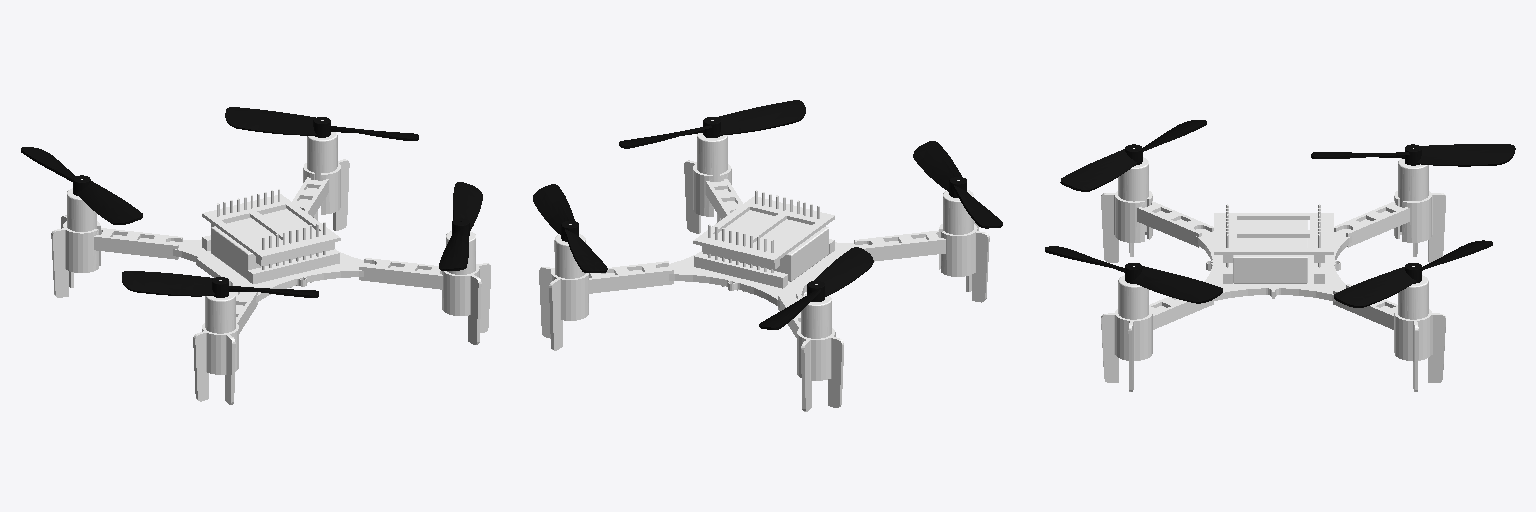
The robot description file, URDF, robot "crazyflie":
<?xml version="1.0" encoding="utf-8"?>
<!-- ROS2-compatible Crazyflie URDF based on original SolidWorks export -->
<robot name="crazyflie">
  
  <!-- Base Link -->
  <link name="base_link">
    <inertial>
      <origin xyz="-2.63791012241991E-05 -0.000268052705446983 0.00191074112200795" rpy="0 0 0" />
      <mass value="0.0191917431990065" />
      <inertia
        ixx="8.93713430198133E-07"
        ixy="-3.57863594302582E-22"
        ixz="-1.26615970453137E-10"
        iyy="1.00507341216179E-06"
        iyz="1.66710668680818E-22"
        izz="1.46956848000142E-06" />
    </inertial>
    <visual>
      <origin xyz="0 0 0" rpy="0 0 0" />
      <geometry>
        <mesh filename="package://kaskazi_drone/crazyflie/meshes/base_link.STL" />
      </geometry>
      <material name="white">
        <color rgba="1 1 1 1" />
      </material>
    </visual>
    <collision>
      <origin xyz="0 0 0" rpy="0 0 0" />
      <geometry>
        <mesh filename="package://kaskazi_drone/crazyflie/meshes/base_link.STL" />
      </geometry>
    </collision>
  </link>

  <!-- Rotor 1 Link -->
  <link name="rotor_1_link">
    <inertial>
      <origin xyz="-2.6852E-10 2.5151E-10 -0.0016763" rpy="0 0 0" />
      <mass value="0.00025712" />
      <inertia
        ixx="2.6852E-08"
        ixy="-1.8324E-08"
        ixz="4.193E-18"
        iyy="1.3639E-08"
        iyz="1.231E-18"
        izz="4.0185E-08" />
    </inertial>
    <visual>
      <origin xyz="0 0 0" rpy="0 0 0" />
      <geometry>
        <mesh filename="package://kaskazi_drone/crazyflie/meshes/rotor_1_link.STL" />
      </geometry>
      <material name="dark_grey">
        <color rgba="0.10196 0.10196 0.10196 1" />
      </material>
    </visual>
    <collision>
      <origin xyz="0 0 0" rpy="0 0 0" />
      <geometry>
        <mesh filename="package://kaskazi_drone/crazyflie/meshes/rotor_1_link.STL" />
      </geometry>
    </collision>
  </link>

  <joint name="rotor_1_joint" type="continuous">
    <origin xyz="0.031643 -0.031643 0.01385" rpy="0 0 0" />
    <parent link="base_link" />
    <child link="rotor_1_link" />
    <axis xyz="0 0 1" />
  </joint>

  <!-- Rotor 2 Link -->
  <link name="rotor_2_link">
    <inertial>
      <origin xyz="-8.1567E-10 -1.248E-09 -0.0016763" rpy="0 0 0" />
      <mass value="0.00025708" />
      <inertia
        ixx="1.6525E-08"
        ixy="1.911E-08"
        ixz="-8.4355E-18"
        iyy="2.3941E-08"
        iyz="1.2492E-17"
        izz="4.016E-08" />
    </inertial>
    <visual>
      <origin xyz="0 0 0" rpy="0 0 0" />
      <geometry>
        <mesh filename="package://kaskazi_drone/crazyflie/meshes/rotor_2_link.STL" />
      </geometry>
      <material name="dark_grey">
        <color rgba="0.10196 0.10196 0.10196 1" />
      </material>
    </visual>
    <collision>
      <origin xyz="0 0 0" rpy="0 0 0" />
      <geometry>
        <mesh filename="package://kaskazi_drone/crazyflie/meshes/rotor_2_link.STL" />
      </geometry>
    </collision>
  </link>

  <joint name="rotor_2_joint" type="continuous">
    <origin xyz="-0.031643 -0.031643 0.01385" rpy="0 0 0" />
    <parent link="base_link" />
    <child link="rotor_2_link" />
    <axis xyz="0 0 1" />
  </joint>

  <!-- Rotor 3 Link -->
  <link name="rotor_3_link">
    <inertial>
      <origin xyz="9.2574E-10 1.1687E-09 -0.0016763" rpy="0 0 0" />
      <mass value="0.00025708" />
      <inertia
        ixx="2.0046E-08"
        ixy="1.9465E-08"
        ixz="7.269E-18"
        iyy="2.042E-08"
        iyz="-1.3178E-17"
        izz="4.016E-08" />
    </inertial>
    <visual>
      <origin xyz="0 0 0" rpy="0 0 0" />
      <geometry>
        <mesh filename="package://kaskazi_drone/crazyflie/meshes/rotor_3_link.STL" />
      </geometry>
      <material name="dark_grey">
        <color rgba="0.10196 0.10196 0.10196 1" />
      </material>
    </visual>
    <collision>
      <origin xyz="0 0 0" rpy="0 0 0" />
      <geometry>
        <mesh filename="package://kaskazi_drone/crazyflie/meshes/rotor_3_link.STL" />
      </geometry>
    </collision>
  </link>

  <joint name="rotor_3_joint" type="continuous">
    <origin xyz="0.031643 0.031643 0.01385" rpy="0 0 0" />
    <parent link="base_link" />
    <child link="rotor_3_link" />
    <axis xyz="0 0 1" />
  </joint>

  <!-- Rotor 4 Link -->
  <link name="rotor_4_link">
    <inertial>
      <origin xyz="-3.6475E-10 4.8156E-11 -0.0016763" rpy="0 0 0" />
      <mass value="0.00025712" />
      <inertia
        ixx="3.9721E-08"
        ixy="3.5294E-10"
        ixz="2.6212E-18"
        iyy="7.7057E-10"
        iyz="3.4849E-18"
        izz="4.0185E-08" />
    </inertial>
    <visual>
      <origin xyz="0 0 0" rpy="0 0 0" />
      <geometry>
        <mesh filename="package://kaskazi_drone/crazyflie/meshes/rotor_4_link.STL" />
      </geometry>
      <material name="dark_grey">
        <color rgba="0.10196 0.10196 0.10196 1" />
      </material>
    </visual>
    <collision>
      <origin xyz="0 0 0" rpy="0 0 0" />
      <geometry>
        <mesh filename="package://kaskazi_drone/crazyflie/meshes/rotor_4_link.STL" />
      </geometry>
    </collision>
  </link>

  <joint name="rotor_4_joint" type="continuous">
    <origin xyz="-0.031643 0.031643 0.01385" rpy="0 0 0" />
    <parent link="base_link" />
    <child link="rotor_4_link" />
    <axis xyz="0 0 1" />
  </joint>

  <!-- Gazebo Materials -->
  <gazebo reference="base_link">
    <material>Gazebo/White</material>
  </gazebo>
  
  <gazebo reference="rotor_1_link">
    <material>Gazebo/DarkGrey</material>
  </gazebo>
  
  <gazebo reference="rotor_2_link">
    <material>Gazebo/DarkGrey</material>
  </gazebo>
  
  <gazebo reference="rotor_3_link">
    <material>Gazebo/DarkGrey</material>
  </gazebo>
  
  <gazebo reference="rotor_4_link">
    <material>Gazebo/DarkGrey</material>
  </gazebo>

</robot>

--- Render facts (derived) ---
Views: 3 orthographic renders of the robot side by side, from view 1: azimuth 30°, elevation 25°; view 2: azimuth 150°, elevation 25°; view 3: azimuth 270°, elevation 25°.
Robot: crazyflie — 5 links, 4 joints (4 continuous); root link base_link; default pose: every joint at zero.
Visible links, largest first — view 1: base_link, rotor_2_link, rotor_3_link, rotor_4_link, rotor_1_link; view 2: base_link, rotor_1_link, rotor_4_link, rotor_2_link, rotor_3_link; view 3: base_link, rotor_4_link, rotor_1_link, rotor_3_link, rotor_2_link.
Link boxes in pixels (box(x1,y1,x2,y2)): base_link: box(51, 120, 490, 404); rotor_2_link: box(122, 271, 318, 297); rotor_3_link: box(225, 107, 418, 140); rotor_4_link: box(21, 147, 142, 224); rotor_1_link: box(439, 182, 482, 270); base_link: box(539, 120, 989, 411); rotor_1_link: box(619, 100, 805, 148); rotor_4_link: box(759, 247, 873, 329); rotor_2_link: box(913, 141, 1002, 228); rotor_3_link: box(533, 184, 607, 272); base_link: box(1101, 148, 1445, 391); rotor_4_link: box(1311, 144, 1515, 166); rotor_1_link: box(1045, 246, 1222, 303); rotor_3_link: box(1334, 240, 1492, 307); rotor_2_link: box(1060, 120, 1206, 191).
Bounding box of the posed robot: 0.0985 × 0.1066 × 0.0288 m (x, y, z).
5 mesh visuals loaded from 5 distinct referenced files (5 binary STL).
